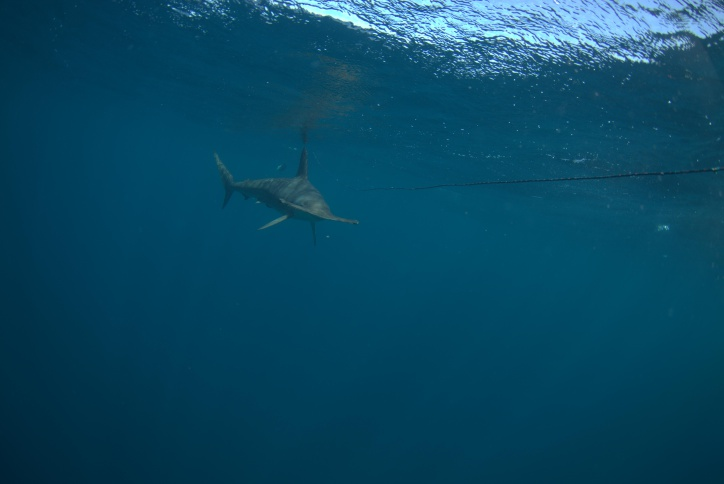Hammer: (208, 130, 375, 264)
